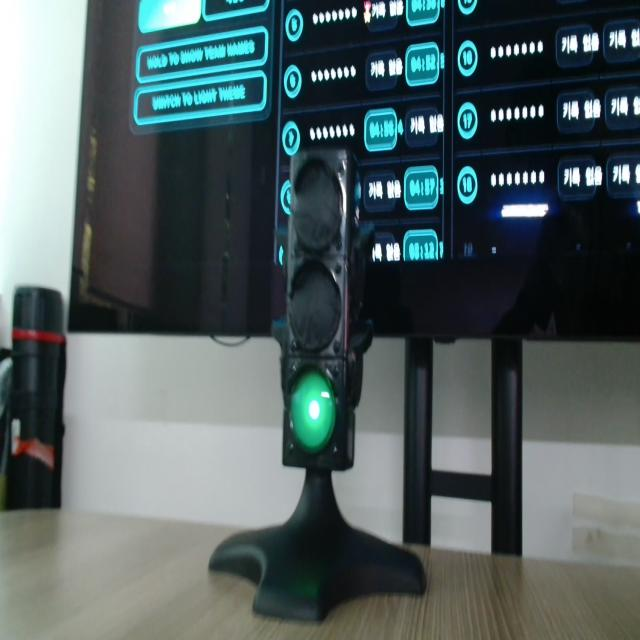green_light: (290, 370, 335, 452)
